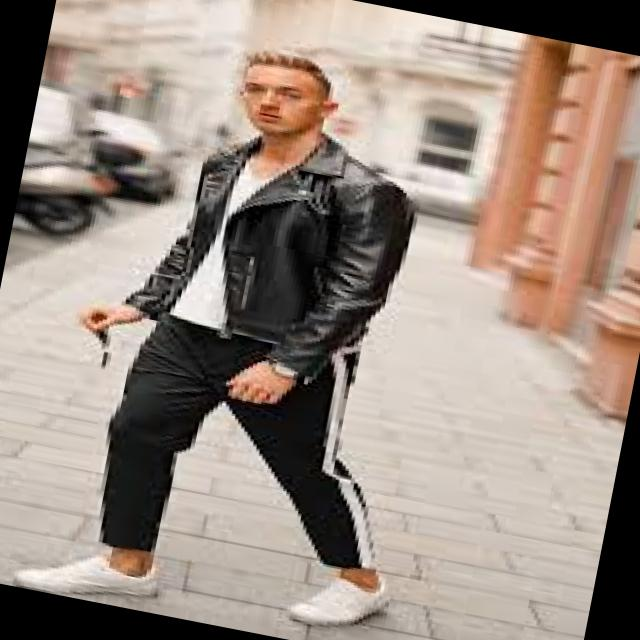Jacket: (94, 108, 462, 390)
